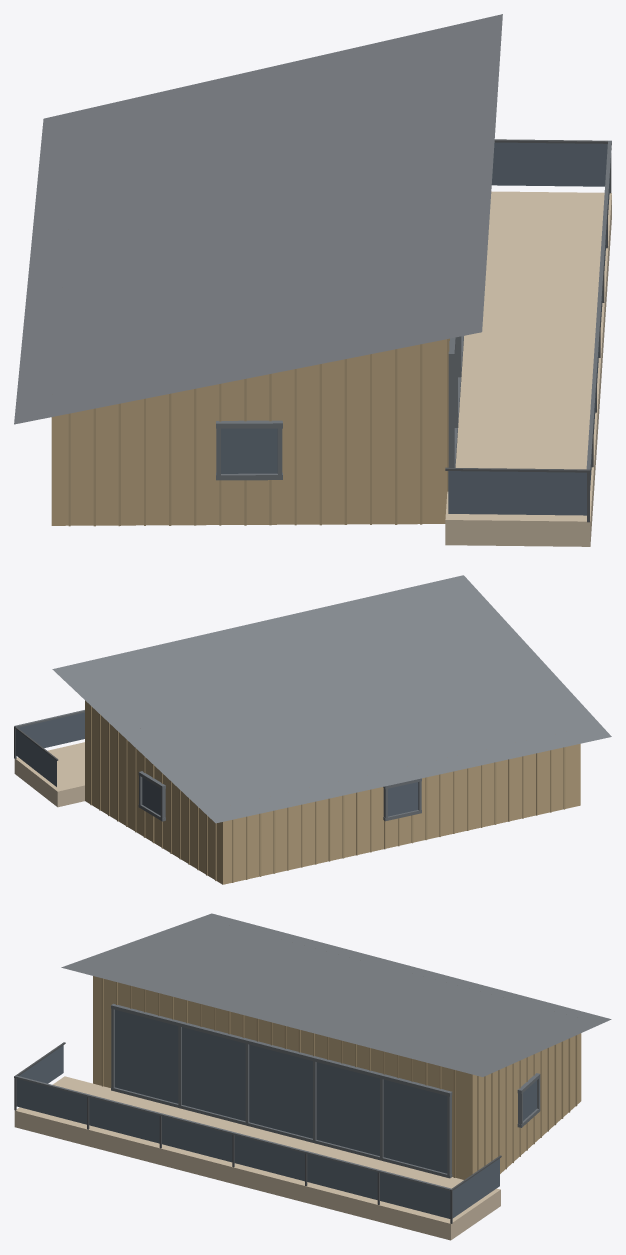
3 renders of one model, top to bottom at view 1: azimuth 30°, elevation 25°; view 2: azimuth 150°, elevation 25°; view 3: azimuth 270°, elevation 25°, orthographic. The views are drawn at different scales.
Parts seen in each view (by area): view 1: slate, door_wood, larch, door_wood_p, window_glass_007, window_glass_008, slate_dk, window_glass_016, pipe; view 2: slate, door_wood, door_wood_p, larch, window_glass_006, slate_dk, window_glass_008, window_glass_015, window_glass_014; view 3: slate, door_wood, larch, slate_dk, window_glass_013, window_glass_010, window_glass_011, window_glass_009, window_glass_012, door_wood_p, window_glass_002, window_glass_001 (+7 smaller).
Boxes of the visible parts, x1,y1,x2,y2 form: slate: [14, 14, 502, 424]; door_wood: [51, 339, 447, 525]; larch: [445, 191, 611, 546]; door_wood_p: [68, 338, 449, 526]; window_glass_007: [448, 471, 586, 515]; window_glass_008: [491, 142, 607, 186]; slate_dk: [216, 140, 611, 480]; window_glass_016: [221, 428, 277, 473]; pipe: [445, 139, 611, 522]; slate: [52, 575, 611, 823]; door_wood: [85, 700, 580, 884]; door_wood_p: [90, 705, 565, 882]; larch: [14, 742, 84, 807]; window_glass_006: [18, 712, 84, 748]; slate_dk: [15, 710, 421, 821]; window_glass_008: [15, 729, 56, 786]; window_glass_015: [388, 782, 418, 816]; window_glass_014: [142, 777, 160, 815]; slate: [61, 913, 611, 1076]; door_wood: [93, 976, 581, 1179]; larch: [14, 1076, 500, 1240]; slate_dk: [14, 1003, 540, 1190]; window_glass_013: [383, 1079, 447, 1173]; window_glass_010: [182, 1027, 245, 1121]; window_glass_011: [249, 1044, 312, 1138]; window_glass_009: [115, 1009, 178, 1103]; window_glass_012: [316, 1062, 379, 1155]; door_wood_p: [101, 978, 577, 1177]; window_glass_002: [89, 1097, 159, 1143]; window_glass_001: [16, 1078, 86, 1124].
Size of the model in its own units: 16.15 by 4.09 by 16.29.
